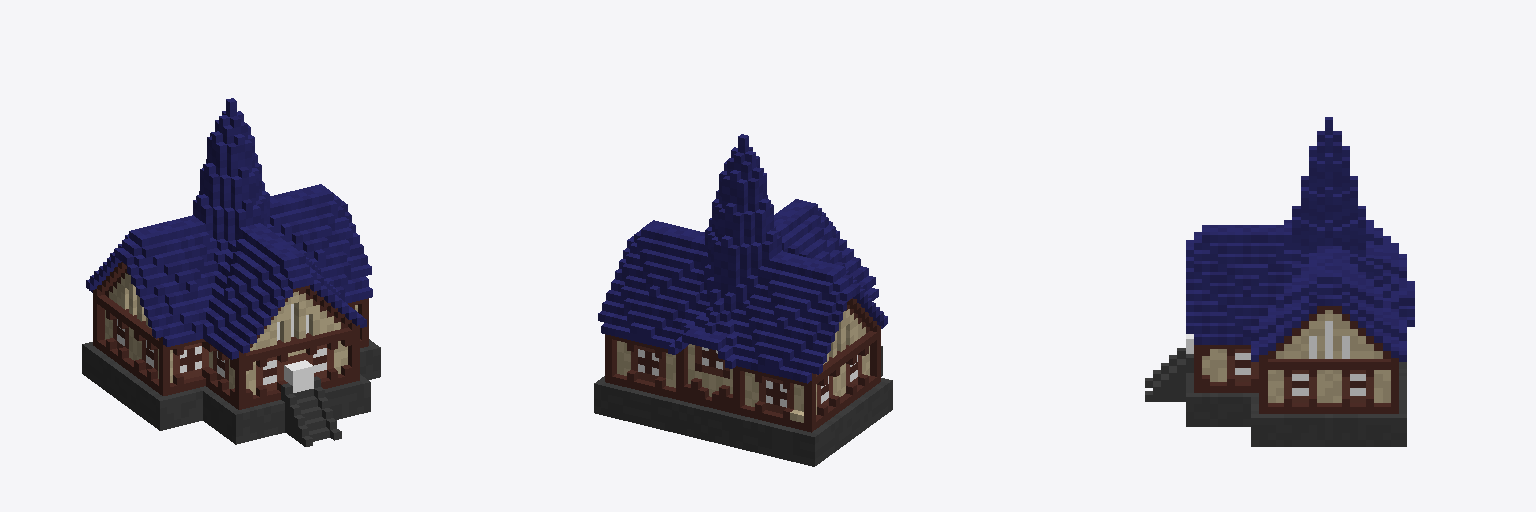
3 renders of one model, left to right at view 1: azimuth 30°, elevation 25°; view 2: azimuth 150°, elevation 25°; view 3: azimuth 270°, elevation 25°, orthographic.
Parts seen in each view (by area): view 1: object 1; view 2: object 1; view 3: object 1.
Part boxes in pixels (left/top/right/bottom): object 1: left=82, top=98, right=380, bottom=446; object 1: left=594, top=134, right=892, bottom=466; object 1: left=1145, top=117, right=1414, bottom=446.
Size of the model in its own units: 3.1 by 3.7 by 3.3.
Materials: 1 (1 with a texture image).